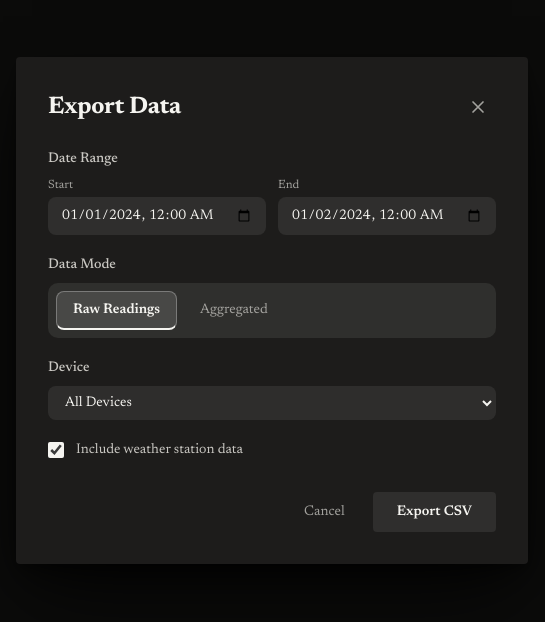
ExportModal › shows bucket size selector in aggregated mode
The width and height of the screenshot is (545, 622).
Click the button "Aggregated": point(234, 310) [181, 290, 287, 330]
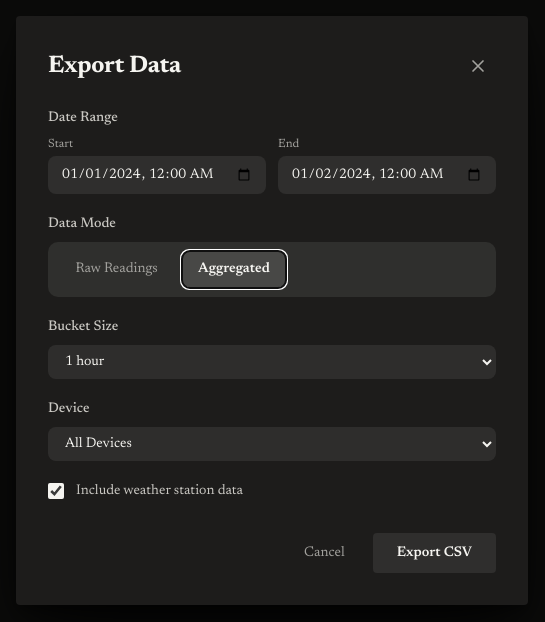
Check: the text "Bucket Size" is shown, box [48, 320, 118, 334]
